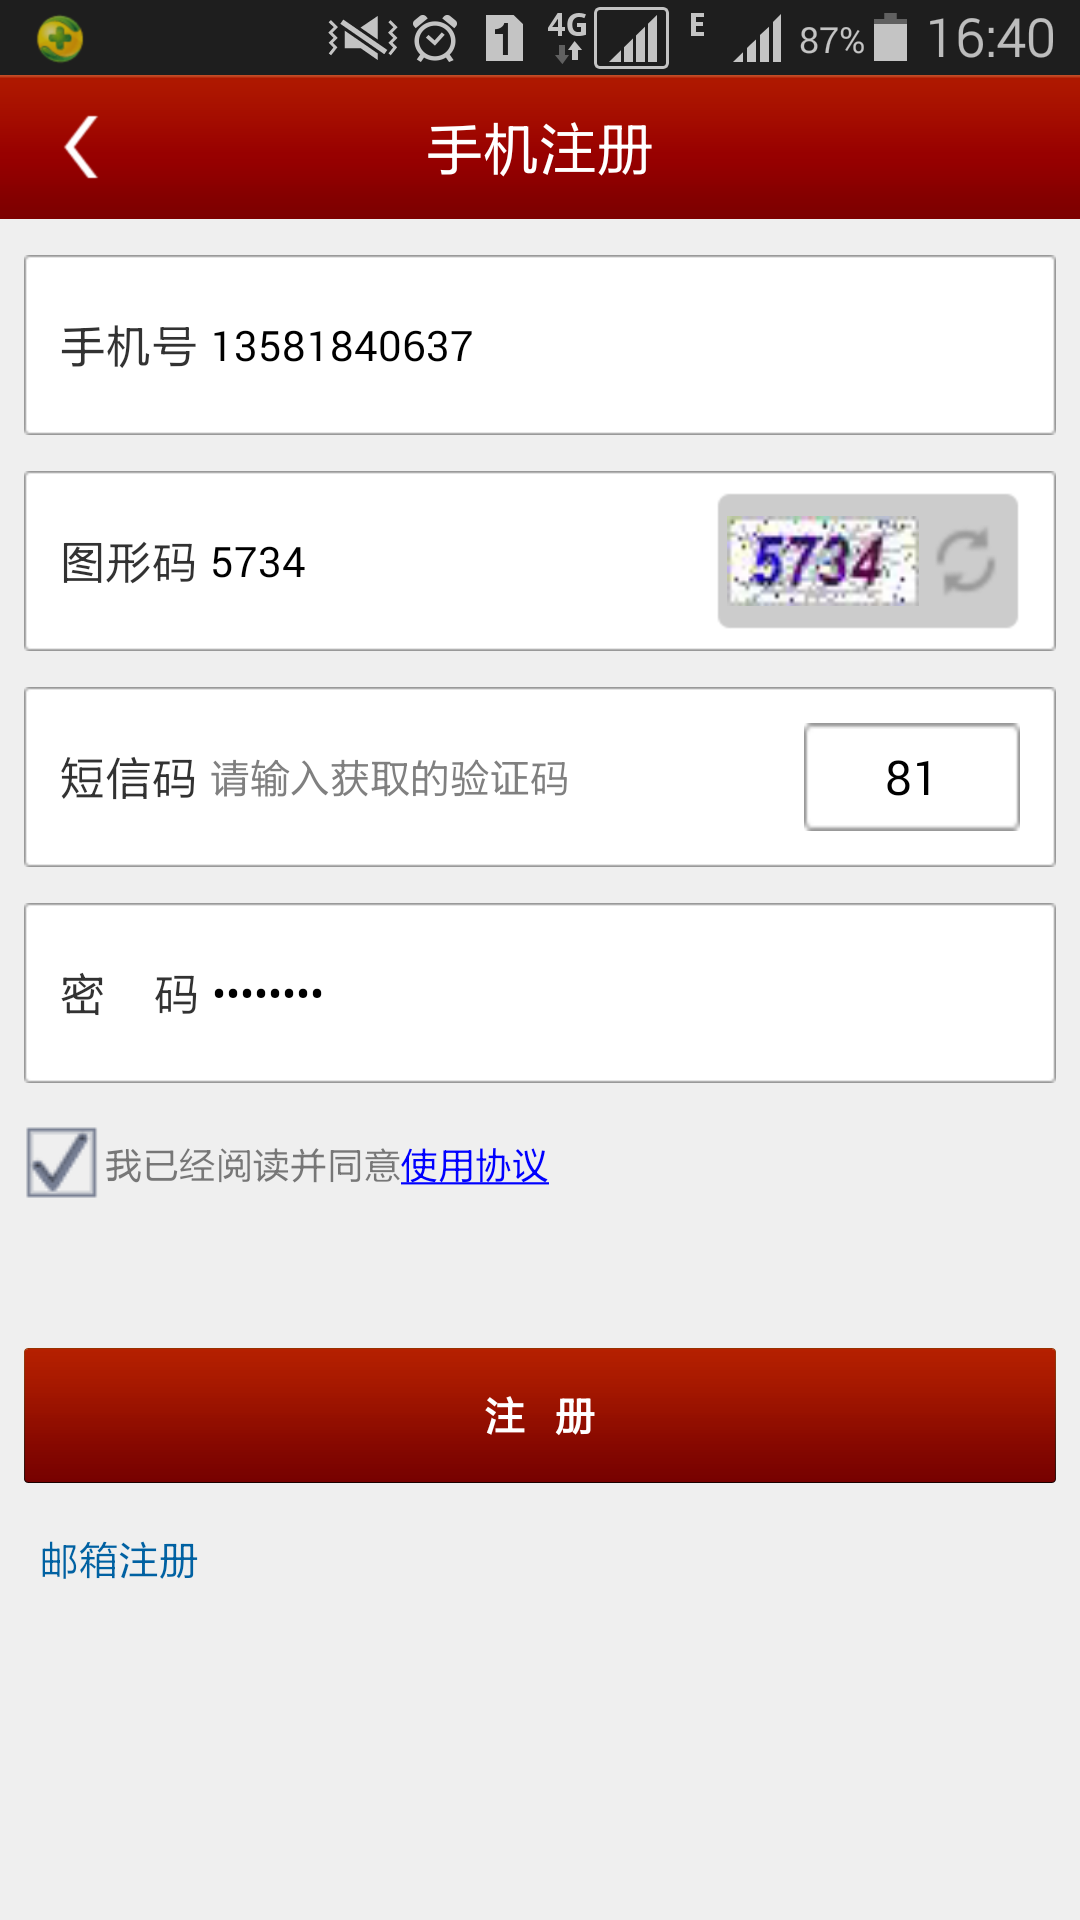button: (11, 1327, 1080, 1513)
textview: (11, 241, 1063, 1116)
